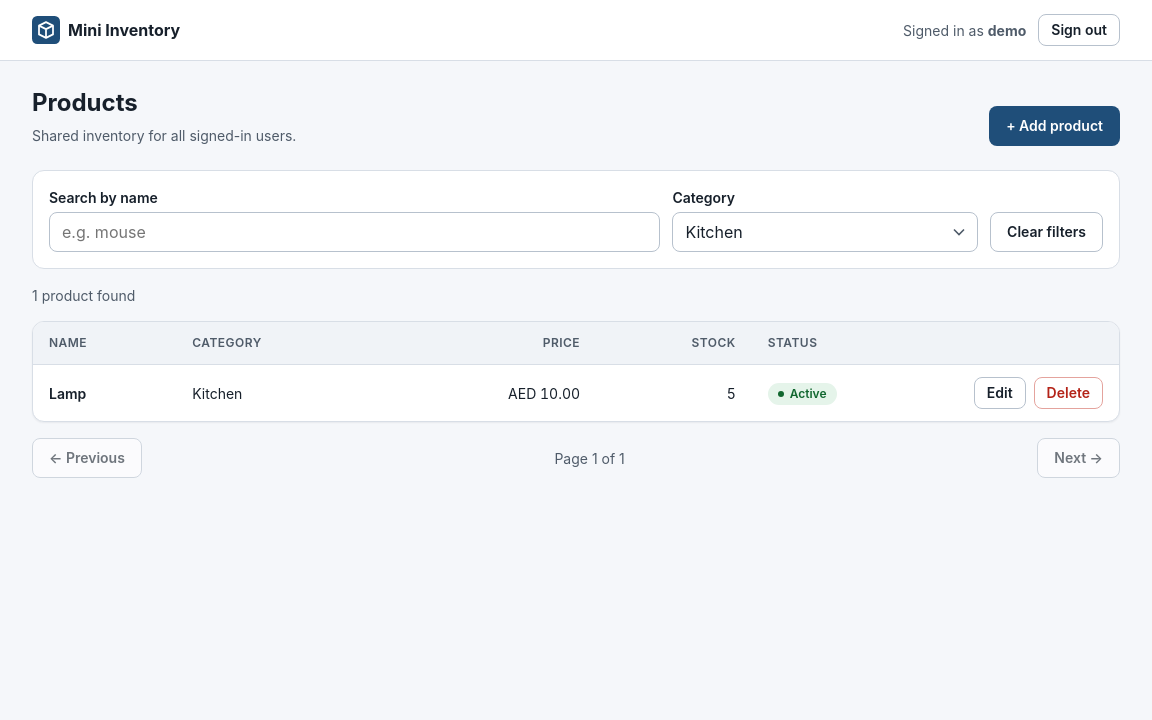
it: edit product › returns to the filtered list it came from
Click the link with aria-label "Edit Lamp" at [1000, 393], box [974,377,1026,409]
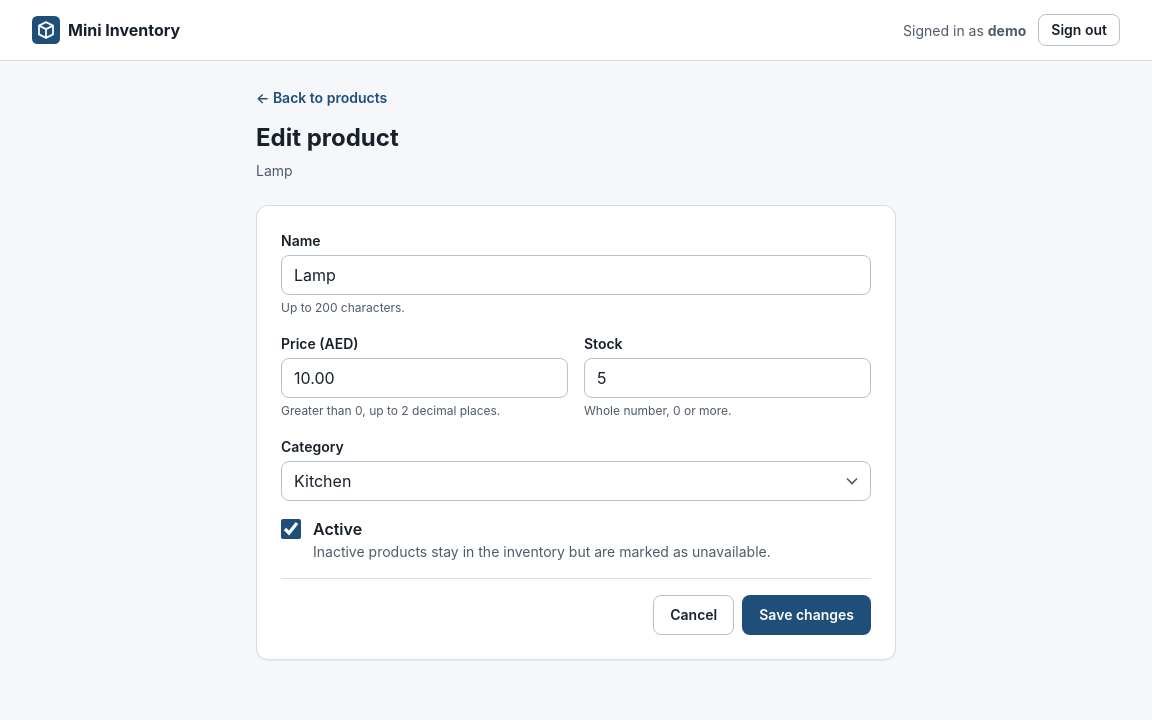
Now the field showing "Lamp" is shown, box [281,255,871,295]
Click the button "Save changes" at [807, 615], box [742,595,871,635]
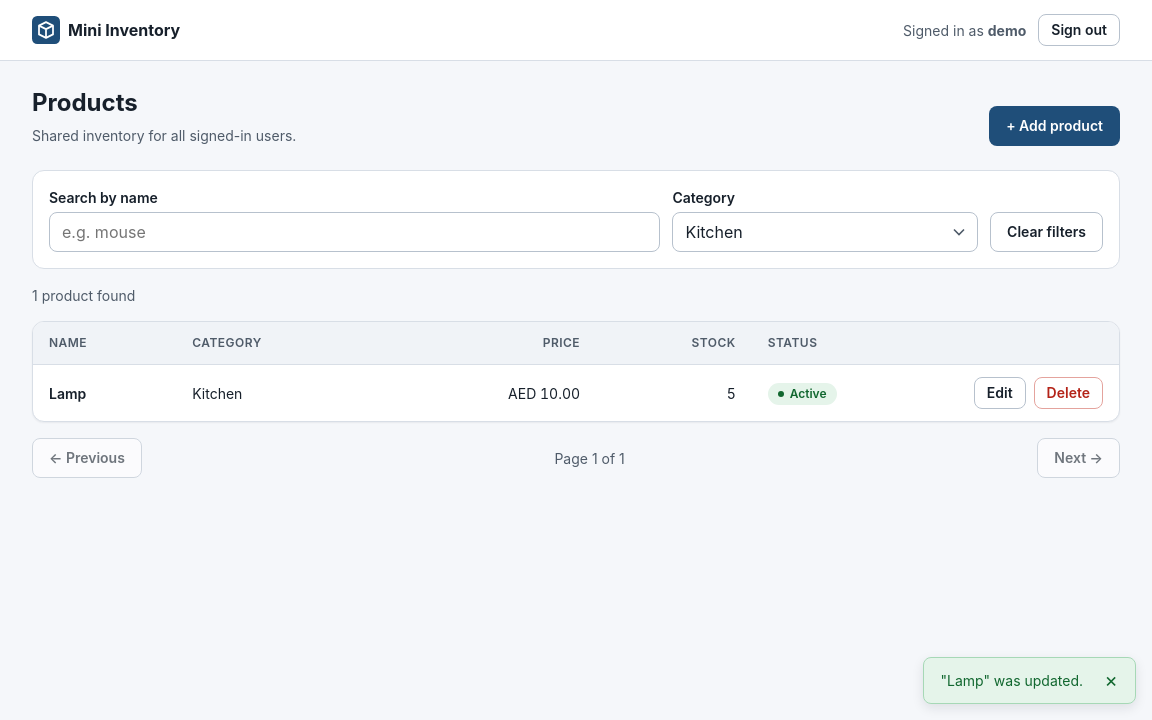
Now the text "\"Lamp\" was updated." is shown, box [940,670,1083,691]
